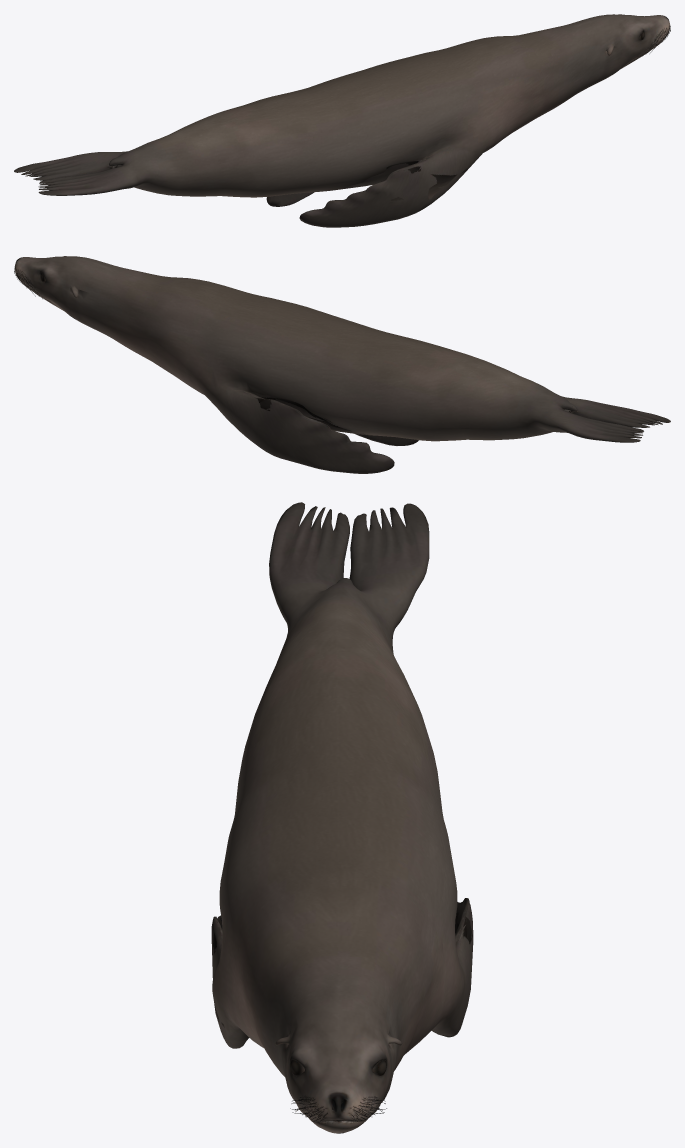
Rendered from scan_ca_sea_lion.glb.
The picture shows the model from 3 angles, top to bottom: view 1: azimuth 30°, elevation 25°; view 2: azimuth 150°, elevation 25°; view 3: azimuth 270°, elevation 25°; orthographic projection. The views are drawn at different scales.
Parts seen in each view (by area): view 1: scan_ca_sea_lion; view 2: scan_ca_sea_lion; view 3: scan_ca_sea_lion.
Part boxes in pixels (x1,y1,x2,y2): scan_ca_sea_lion: (14,14,670,227); scan_ca_sea_lion: (14,256,670,473); scan_ca_sea_lion: (211,502,473,1133).
Size of the model in its own units: 1.9 by 0.3707 by 0.3369.
Materials: 1 (1 with a texture image).
